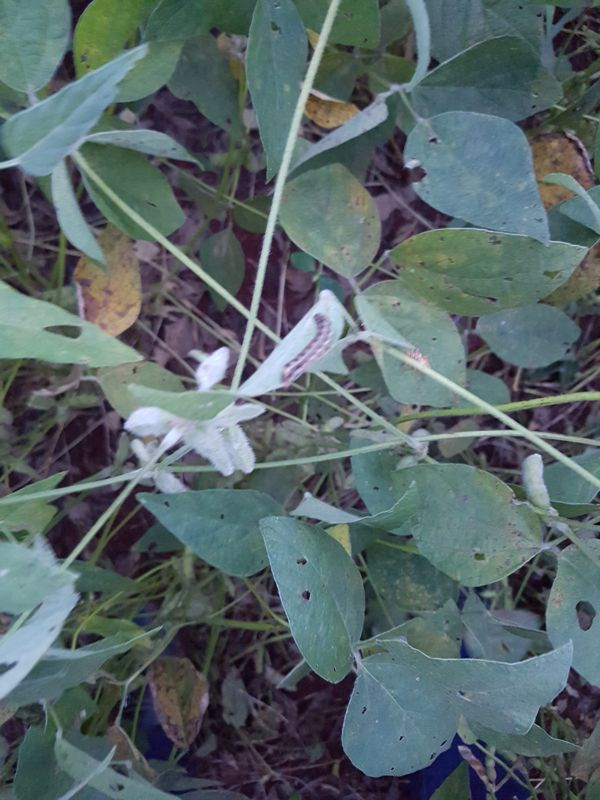Spodoptera_albula: (268, 302, 352, 394)
